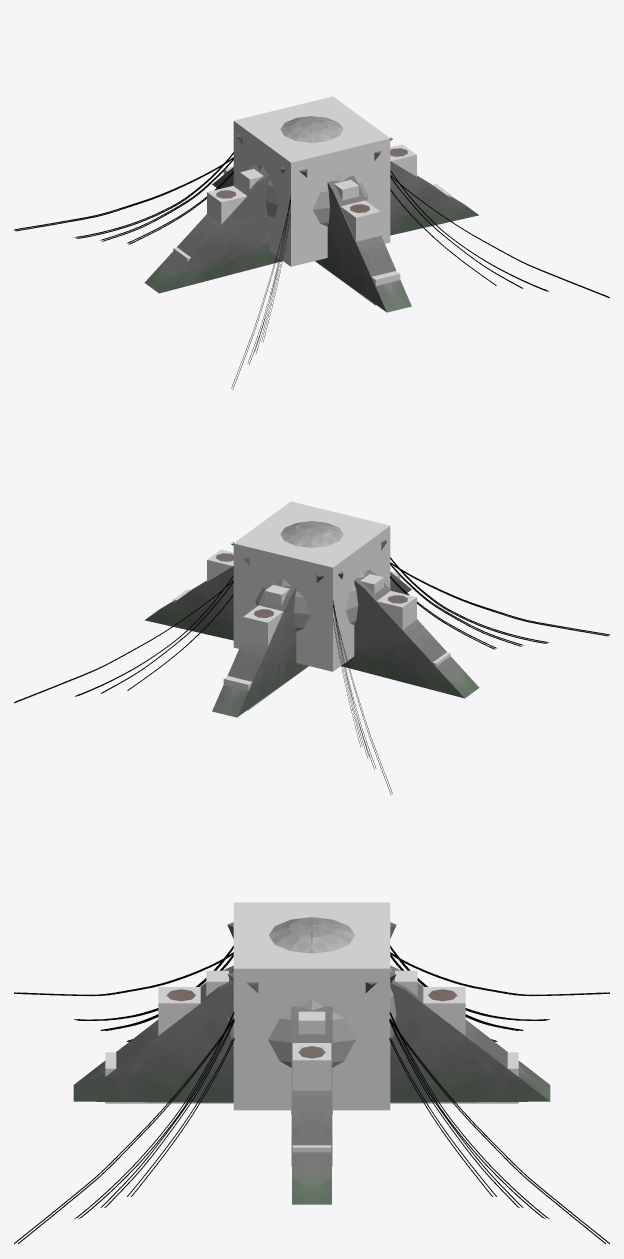
The model's file is MCC.fbx.
3 views of the same model, one above another, from view 1: azimuth 30°, elevation 25°; view 2: azimuth 150°, elevation 25°; view 3: azimuth 270°, elevation 25° (orthographic). The views are drawn at different scales.
Visible parts, largest first — view 1: Sphere, BB_MAIN, BB_5, BB_2; view 2: Sphere, BB_MAIN, BB_5, BB_2; view 3: Sphere, BB_MAIN, BB_2, BB_5, BB_1, BB_3, BB_6.
Boxes of the visible parts, x1,y1,x2,y2 form: Sphere: (14,116,609,389); BB_MAIN: (233,96,390,266); BB_5: (207,144,416,224); BB_2: (340,200,380,241); Sphere: (14,521,609,794); BB_MAIN: (233,501,390,671); BB_5: (207,549,416,629); BB_2: (243,605,283,646); Sphere: (14,917,609,1244); BB_MAIN: (233,902,390,1110); BB_2: (158,987,465,1035); BB_5: (292,1043,331,1090); BB_1: (105,1052,518,1103); BB_3: (206,970,417,995); BB_6: (298,1011,325,1034).
Size of the model in its own units: 1488 by 537 by 1494.
Materials: 1 (1 with a texture image).
